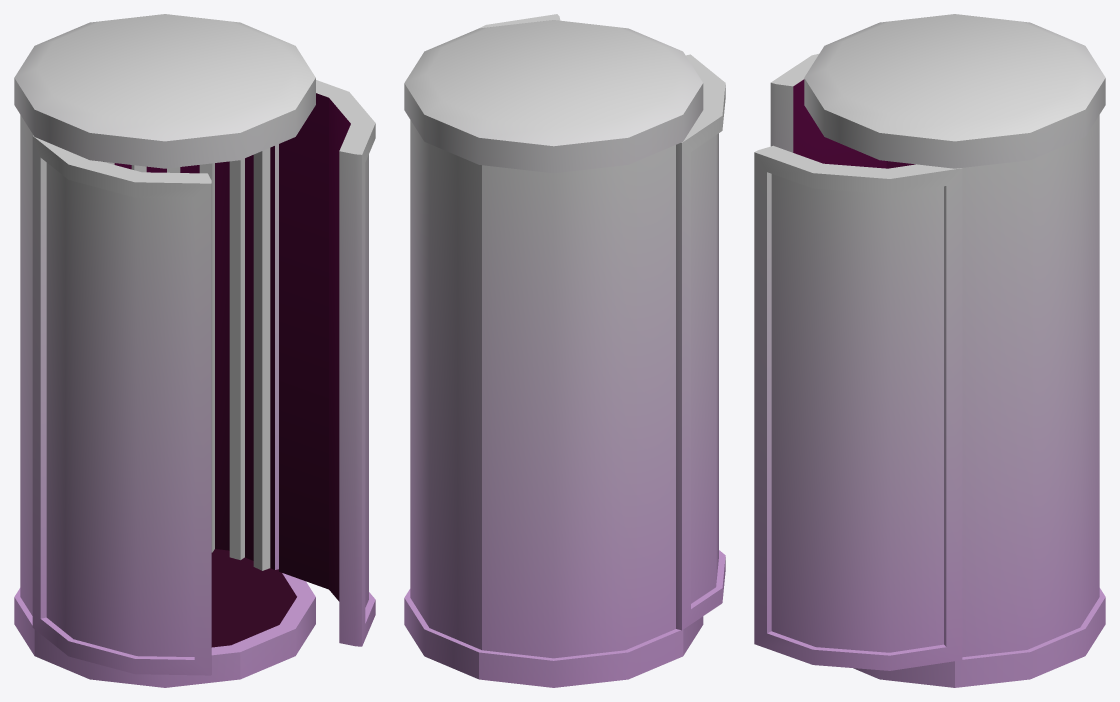
Rendered from TanningBed2.fbx.
3 renders of one model, left to right at view 1: azimuth 30°, elevation 25°; view 2: azimuth 150°, elevation 25°; view 3: azimuth 270°, elevation 25°, orthographic.
Visible parts, largest first — view 1: Circle.002, Circle, Circle.003, Circle.001, Cube; view 2: Circle.001, Circle, Circle.002; view 3: Circle.003, Circle.001, Circle, Circle.002.
Boxes of the visible parts, box(x1,y1,x2,y2) form: Circle.002: box(32, 135, 211, 675); Circle: box(14, 14, 315, 687); Circle.003: box(279, 80, 375, 646); Circle.001: box(20, 115, 278, 615); Cube: box(103, 148, 270, 570); Circle.001: box(410, 120, 675, 658); Circle: box(404, 20, 703, 687); Circle.002: box(676, 54, 725, 630); Circle.003: box(754, 145, 962, 670); Circle.001: box(962, 115, 1099, 657); Circle: box(804, 14, 1105, 687); Circle.002: box(770, 54, 915, 168).
Size of the model in its own units: 218 by 407 by 233.
